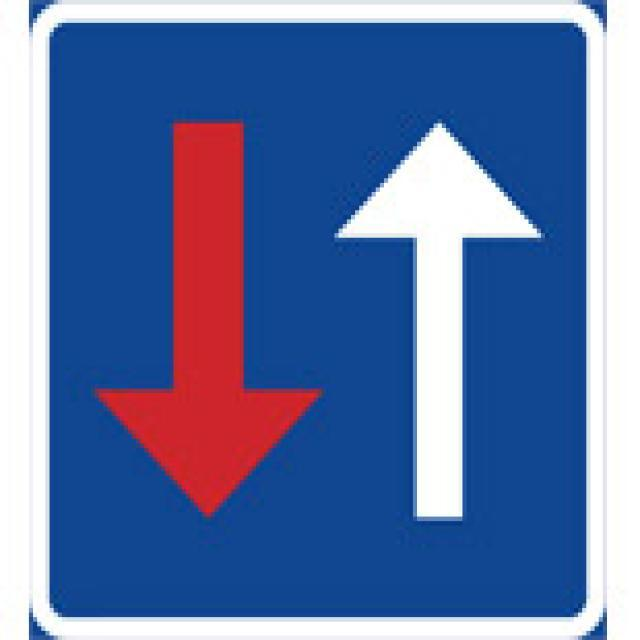Priority over oncoming vehicles: (27, 0, 609, 640)
